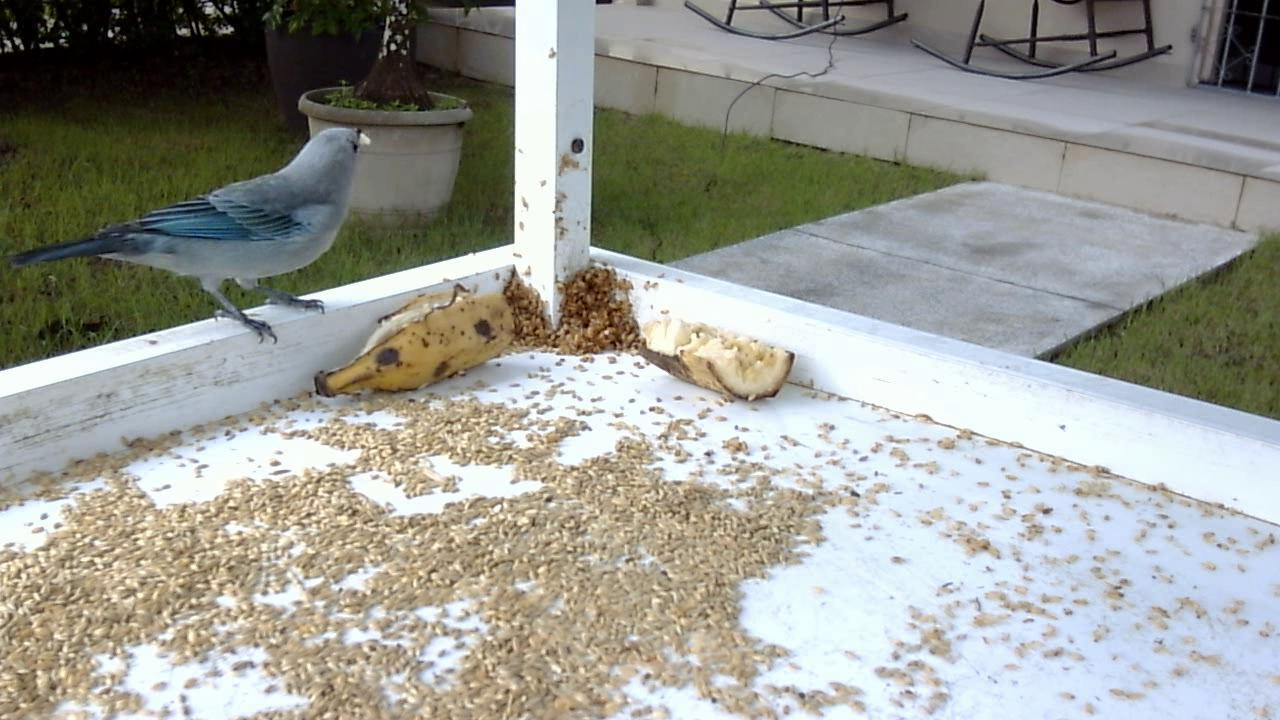sanhaco_da_amazonia: (15, 116, 367, 352)
